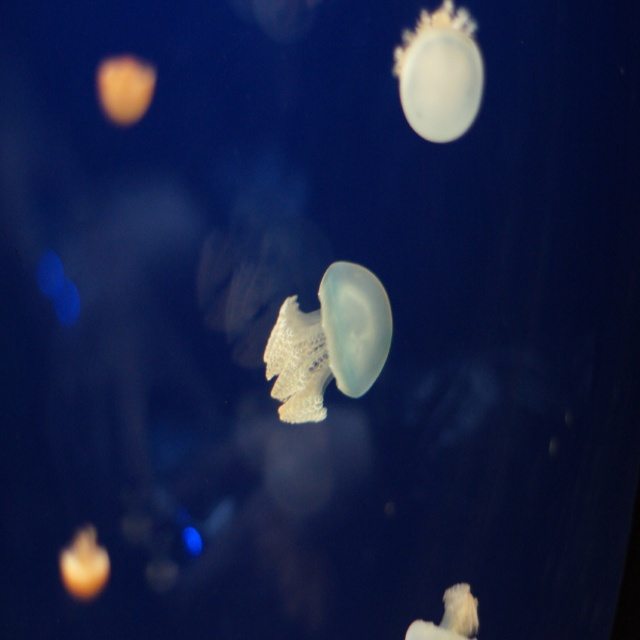Jellyfish: (263, 265, 394, 428), (390, 0, 484, 143), (404, 581, 478, 639), (60, 532, 113, 598)
